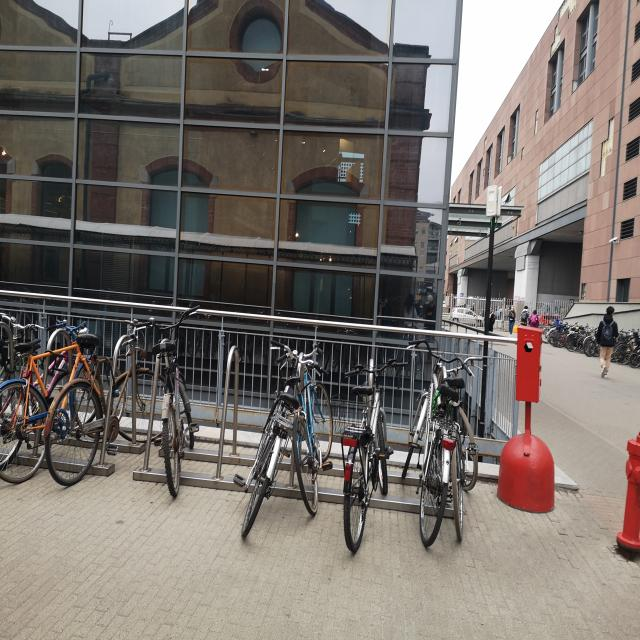Bicycle: (42, 318, 158, 510), (335, 317, 409, 566), (0, 322, 103, 487), (405, 325, 450, 560), (152, 327, 210, 495), (261, 290, 296, 556), (290, 336, 338, 528), (444, 362, 487, 552), (0, 302, 36, 411)
